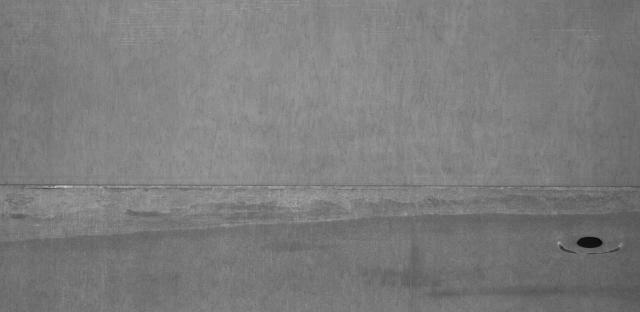punching_hole: (575, 232, 609, 252)
welding_line: (4, 175, 640, 198)
